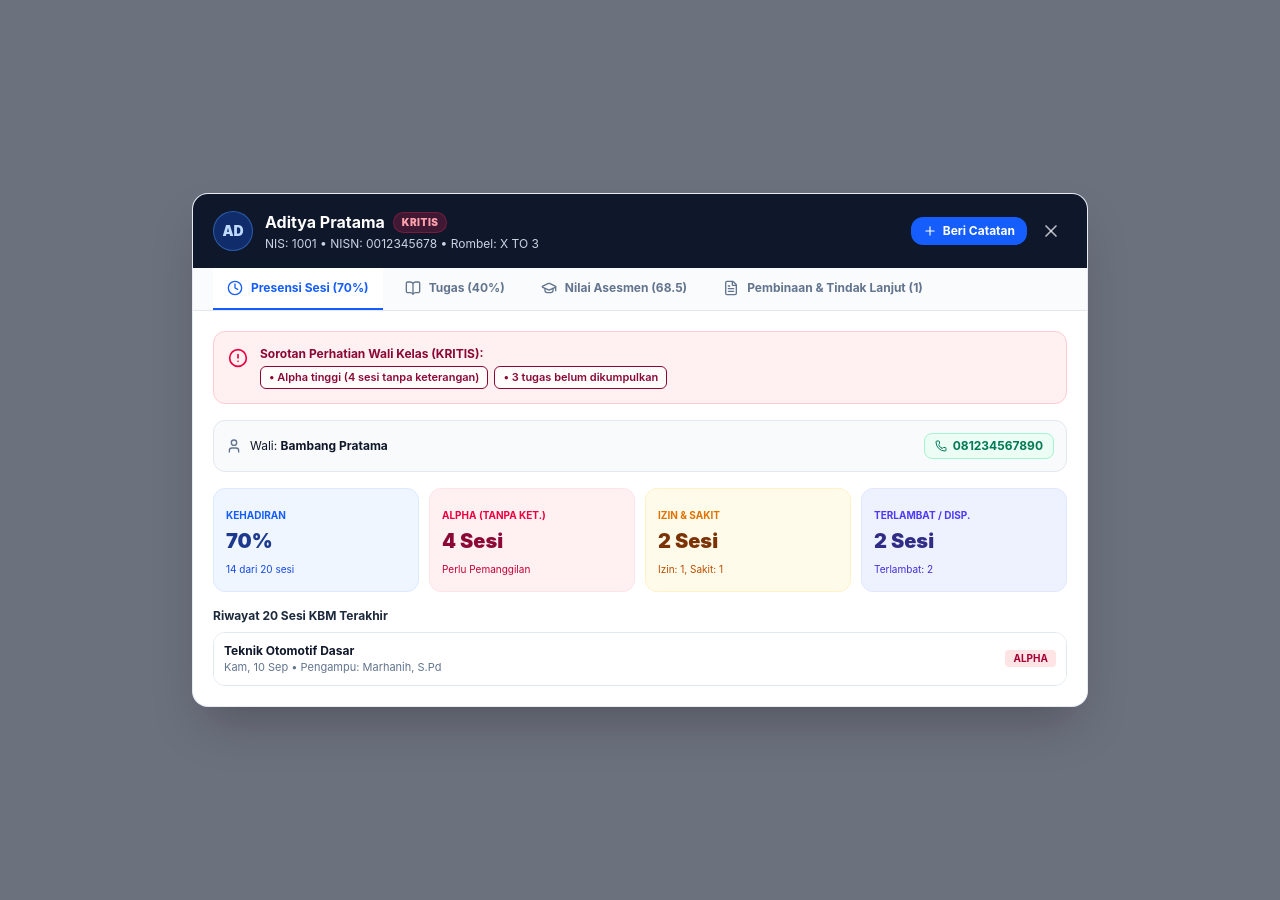
M18 Student Monitoring — Presentation Views (Academic Glass UI) › 2. StudentMonitoringDetailModal — Investigasi Holistik › dapat berpindah tab ke Tugas dan Nilai
Expected: the heading "Aditya Pratama" is shown, [265,210,385,234]
Pindah ke tab tugas
Click the button "Tugas (40%)": (455, 289) [391,268,519,310]
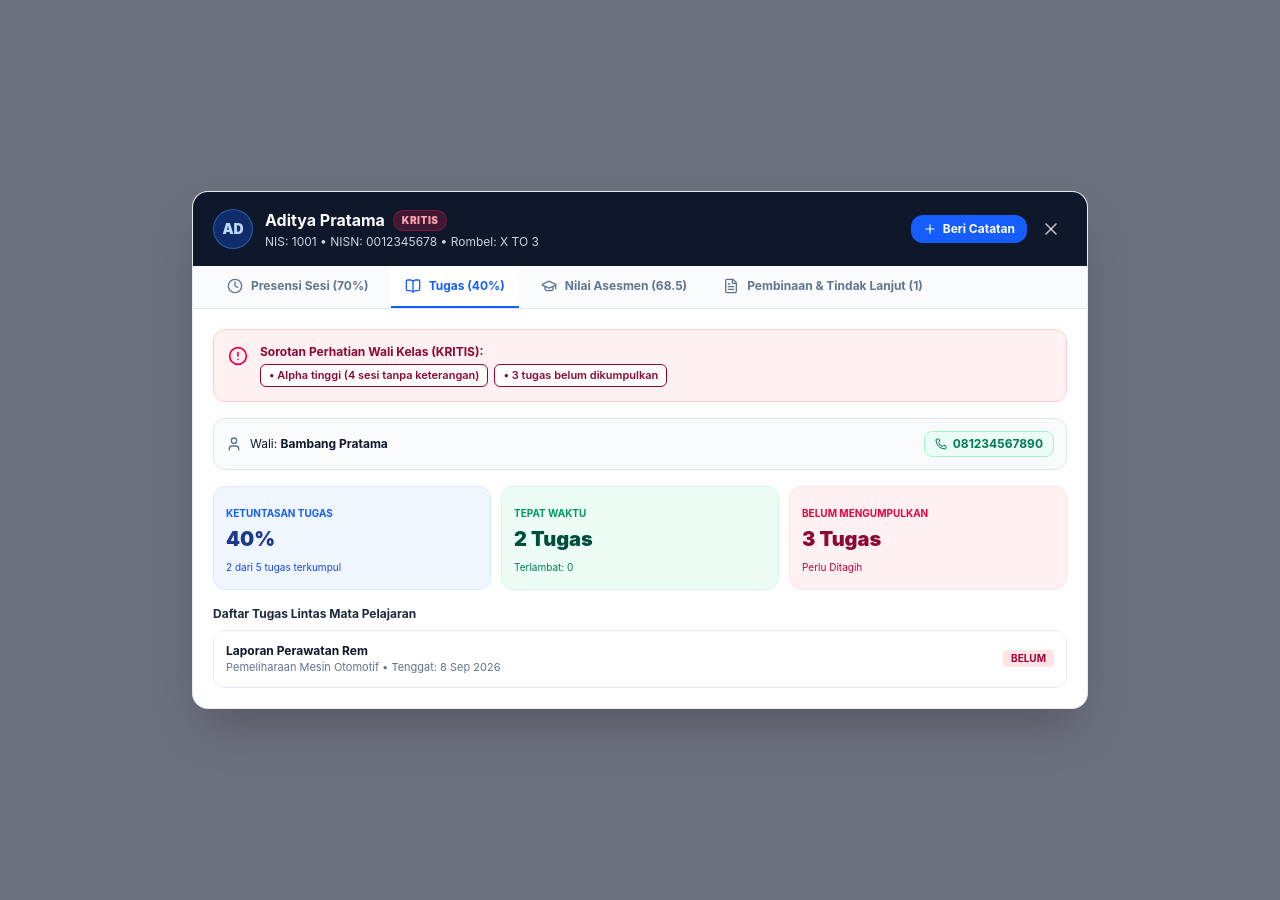
Expected: the text "Ketuntasan Tugas" is shown, [226,507,333,519]
Expected: the text "Laporan Perawatan Rem" is shown, [226,643,368,658]
Pindah ke tab nilai
Click the button "Nilai Asesmen (68.5)": (614, 287) [527,266,701,308]
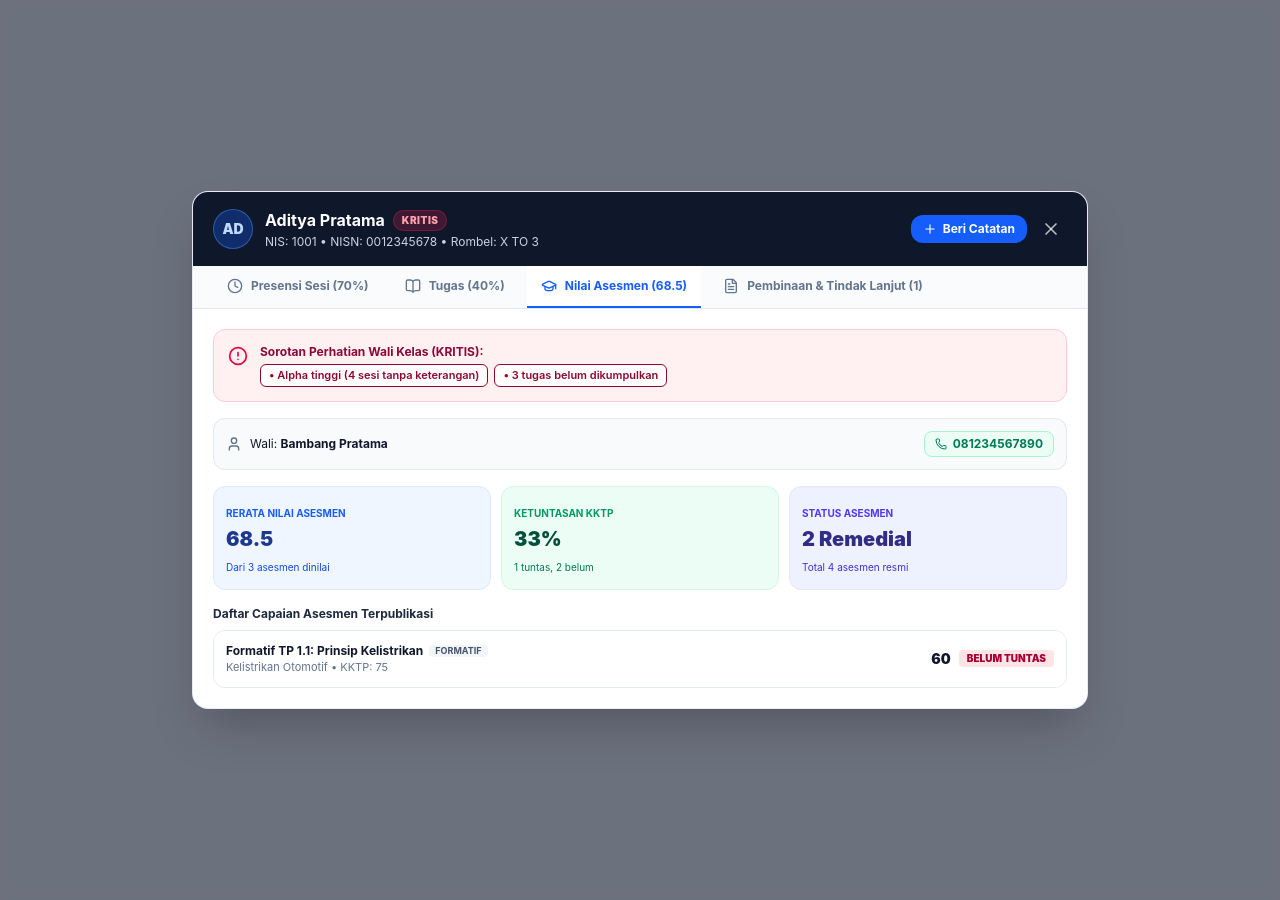
Expected: the text "Rerata Nilai Asesmen" is shown, [226,507,346,519]
Expected: the text "Formatif TP 1.1: Prinsip Kelistrikan" is shown, [226,643,423,659]
